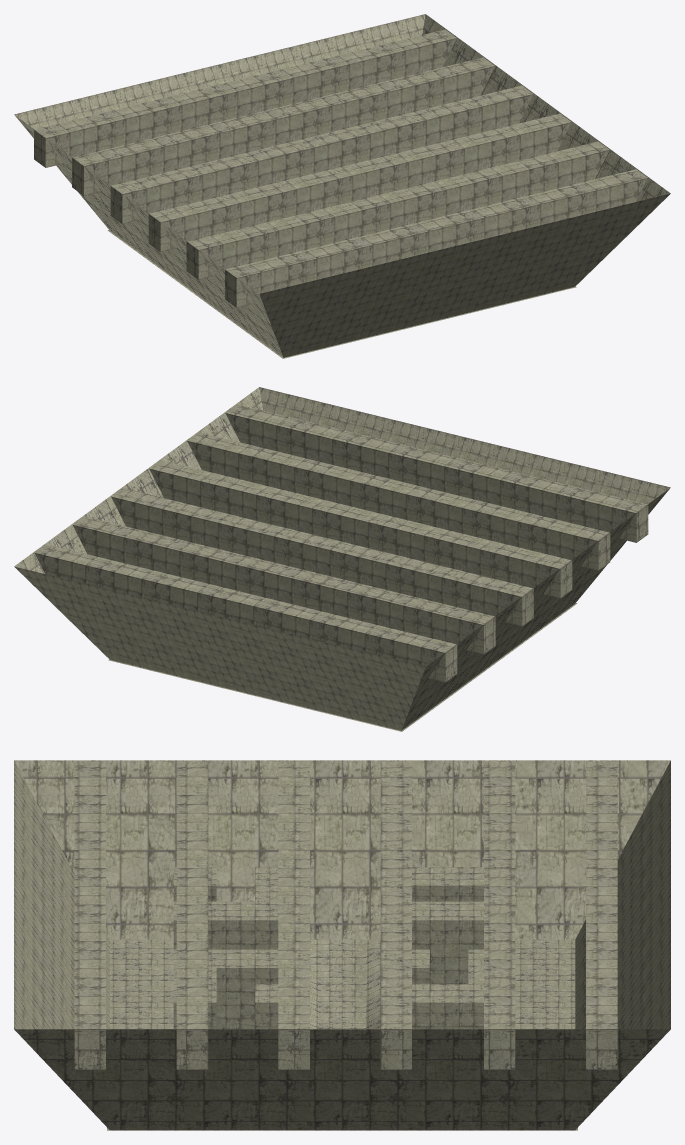
File: SM_LDFest_03.fbx
3 views of the same model, one above another, from view 1: azimuth 30°, elevation 25°; view 2: azimuth 150°, elevation 25°; view 3: azimuth 270°, elevation 25° (orthographic). The views are drawn at different scales.
Visible parts, largest first — view 1: SM_LDFest_03; view 2: SM_LDFest_03; view 3: SM_LDFest_03.
Boxes of the visible parts, x1,y1,x2,y2 form: SM_LDFest_03: [14, 14, 670, 358]; SM_LDFest_03: [14, 387, 670, 731]; SM_LDFest_03: [14, 760, 670, 1130].
Bounding box in the file's own units: 5003 × 1305 × 5163.
